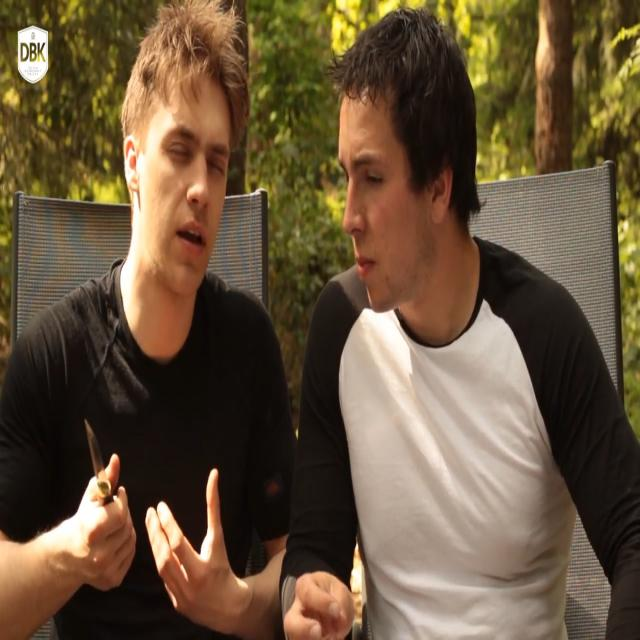knife: (84, 417, 116, 504)
